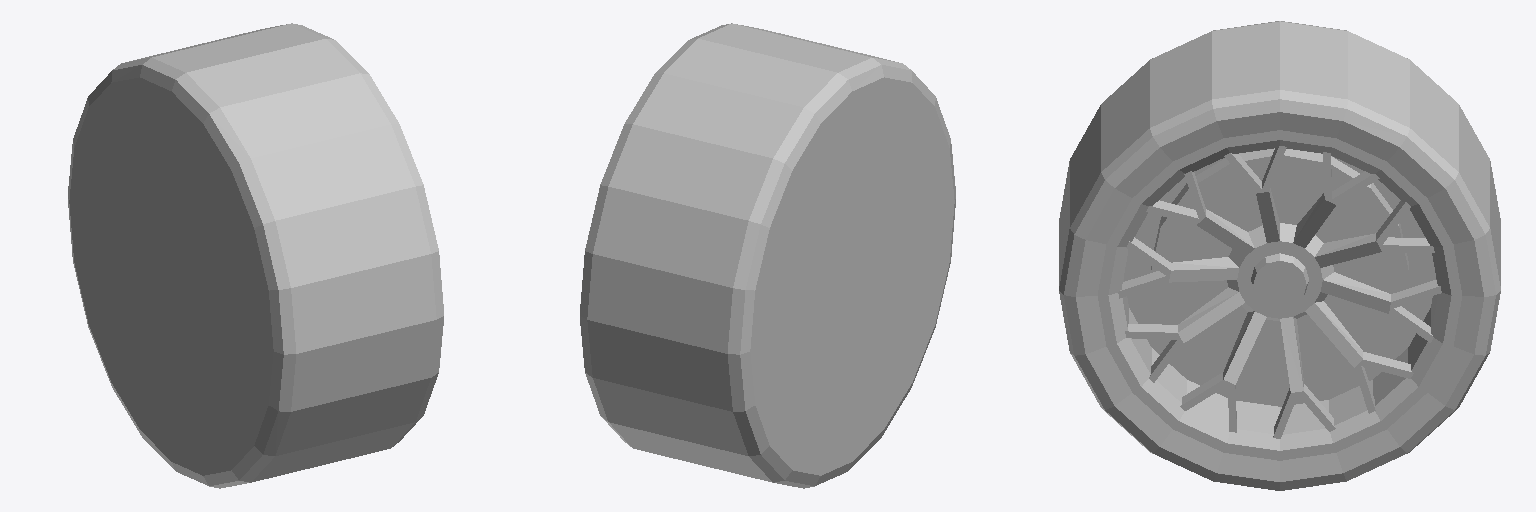
File: Lamborghini_Aventador_front_left_wheel.obj
3 renders of one model, left to right at view 1: azimuth 30°, elevation 25°; view 2: azimuth 150°, elevation 25°; view 3: azimuth 270°, elevation 25°, orthographic.
Parts seen in each view (by area): view 1: Lamborghini_Aventador_Wheel_FL; view 2: Lamborghini_Aventador_Wheel_FL; view 3: Lamborghini_Aventador_Wheel_FL.
Boxes of the visible parts, x1,y1,x2,y2 form: Lamborghini_Aventador_Wheel_FL: [68, 23, 443, 488]; Lamborghini_Aventador_Wheel_FL: [580, 23, 955, 488]; Lamborghini_Aventador_Wheel_FL: [1059, 21, 1500, 490].
Bounding box in the file's own units: 0.3328 × 0.7544 × 0.7544.